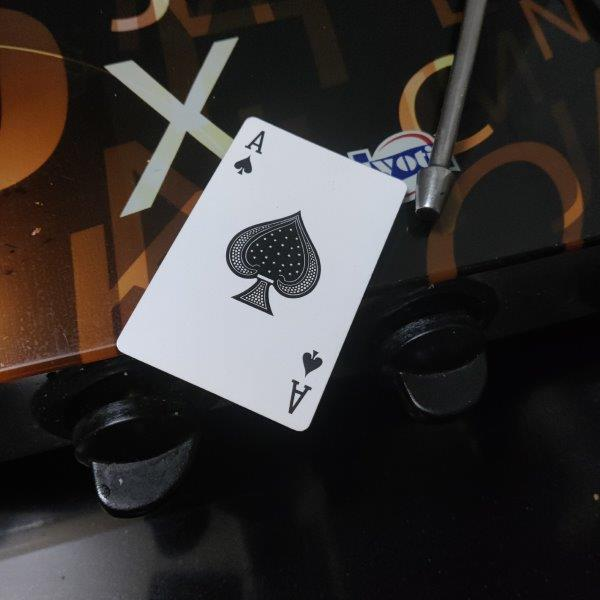Ace of Spades: (115, 116, 408, 432)
